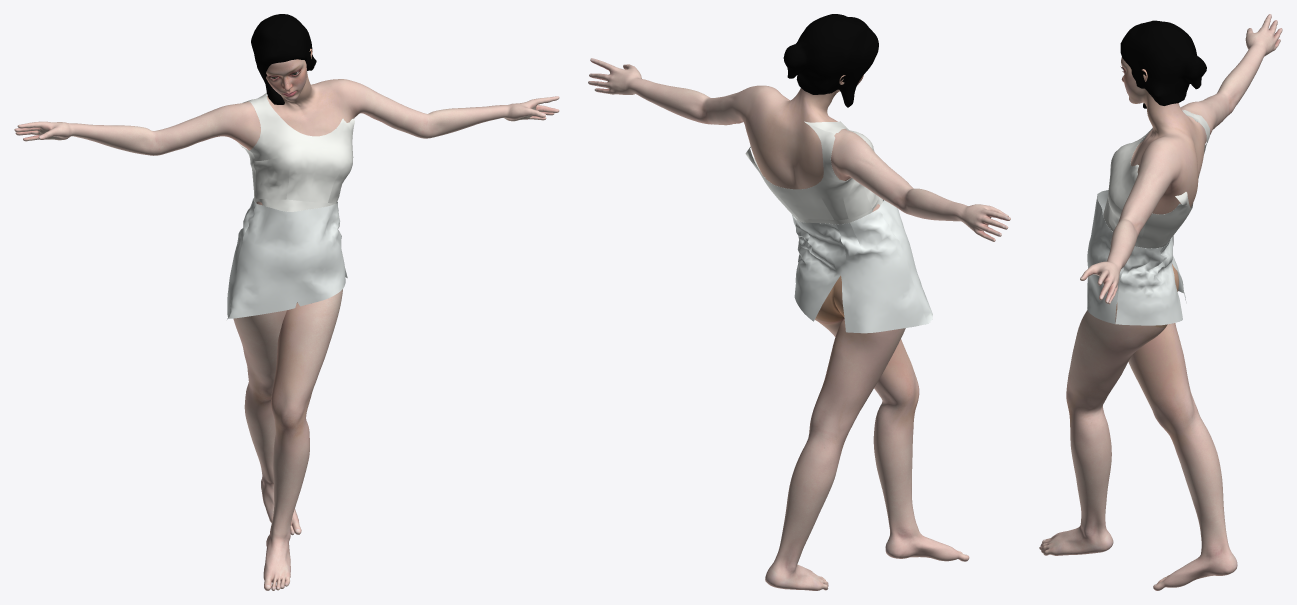
Rendered from Dynamic_2.obj.
The picture shows the model from 3 angles, left to right: view 1: azimuth 30°, elevation 25°; view 2: azimuth 150°, elevation 25°; view 3: azimuth 270°, elevation 25°; orthographic projection. The views are drawn at different scales.
Size of the model in its own units: 1601 by 1717 by 679.
